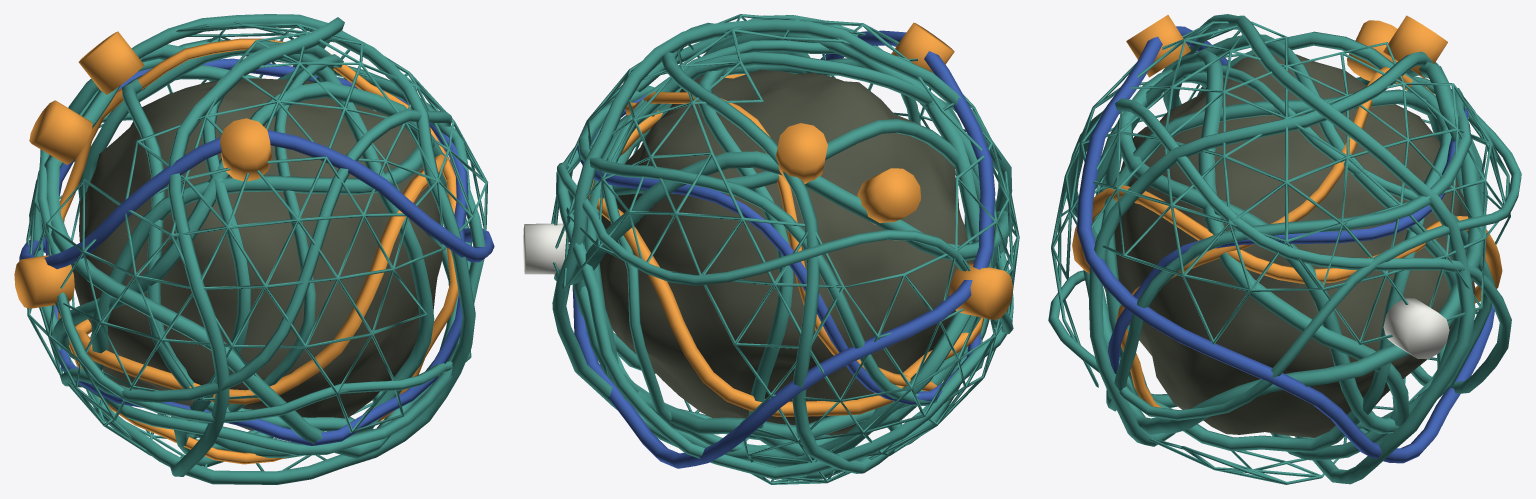
The model's file is TrashNetBall.fbx.
3 renders of one model, left to right at view 1: azimuth 30°, elevation 25°; view 2: azimuth 150°, elevation 25°; view 3: azimuth 270°, elevation 25°, orthographic.
Visible parts, largest first — view 1: TrashNetBall; view 2: TrashNetBall; view 3: TrashNetBall.
Part boxes in pixels (x1=…): TrashNetBall: x1=14, y1=14, x2=494, y2=484; TrashNetBall: x1=523, y1=14, x2=1019, y2=484; TrashNetBall: x1=1048, y1=14, x2=1521, y2=484.
Size of the model in its own units: 2.57 by 2.45 by 2.42.
